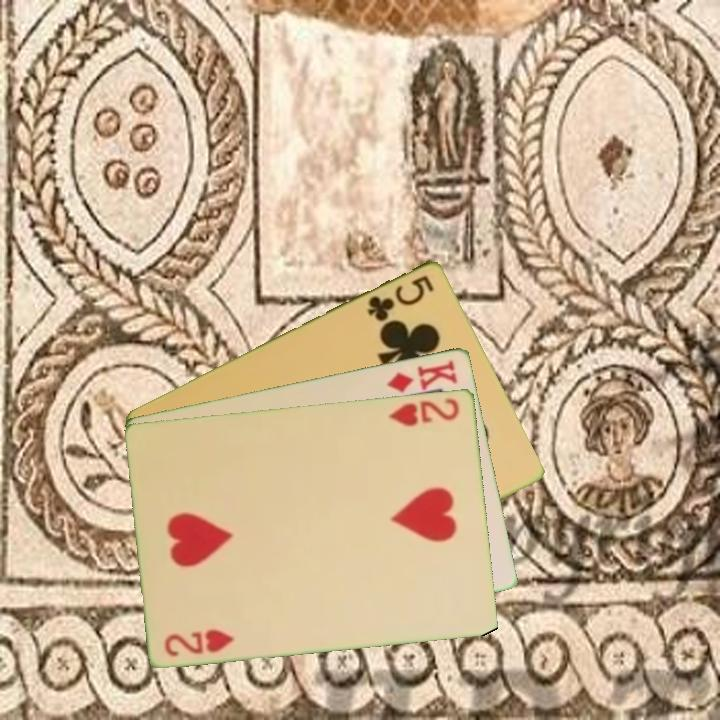2h: (385, 394, 462, 429), (161, 625, 238, 659)
5c: (364, 271, 437, 324)
Kd: (383, 356, 461, 396)
